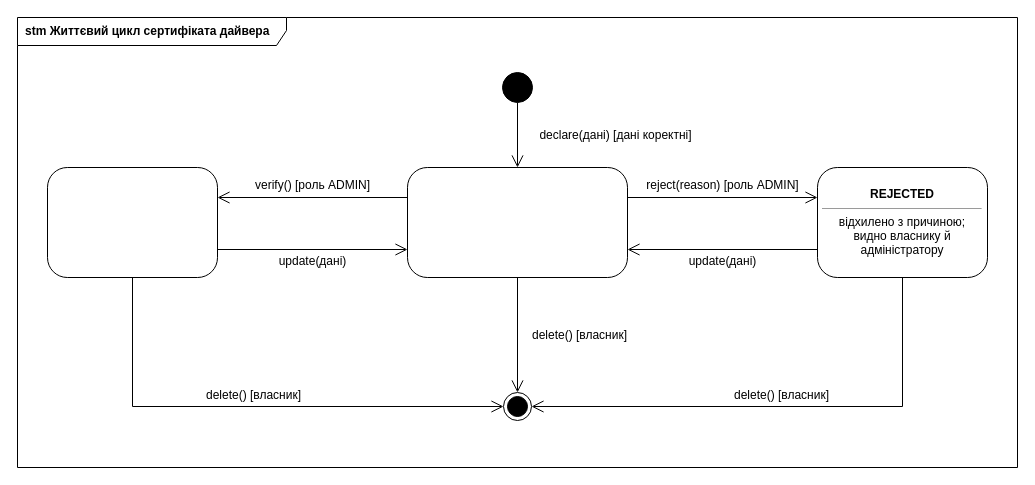
The diagram is 1035 pixels wide and 485 high, and some of its shapes have lost their labels. Each missing label, with the centre of its shape:
"PENDING очікує перевірки адміністратором" goes at point (517, 222).
"VERIFIED підтверджено; показано значок" goes at point (132, 222).
